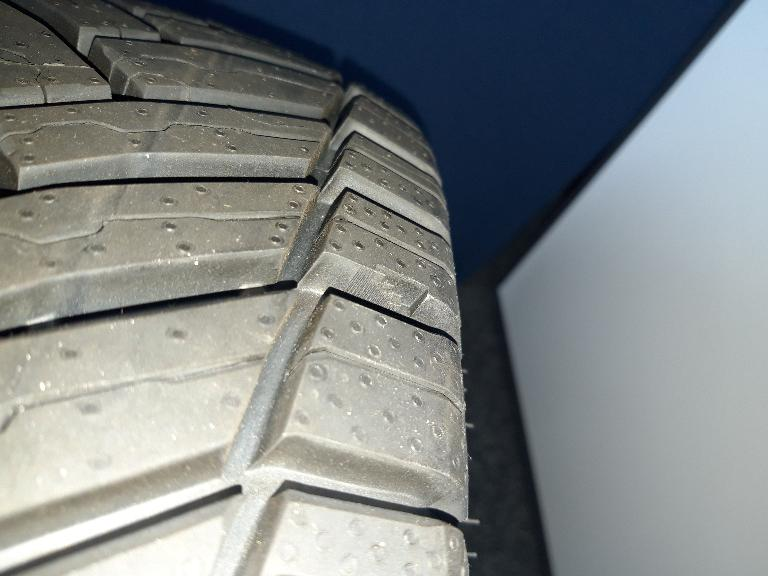temoin:100: (350, 260, 431, 323)
